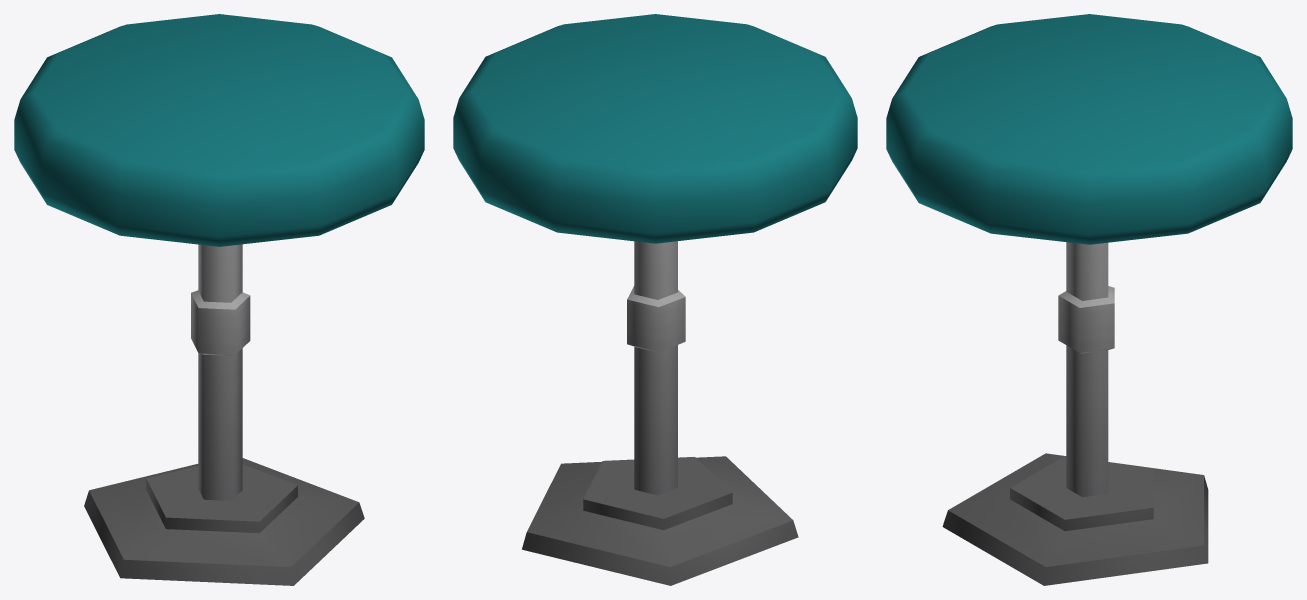
File: Chair_3_F.fbx
The picture shows the model from 3 angles, left to right: view 1: azimuth 30°, elevation 25°; view 2: azimuth 150°, elevation 25°; view 3: azimuth 270°, elevation 25°; orthographic projection.
Visible parts, largest first — view 1: Chair_3_F; view 2: Chair_3_F; view 3: Chair_3_F.
Boxes of the visible parts, left/top/right/bottom form: Chair_3_F: left=14, top=14, right=424, bottom=585; Chair_3_F: left=453, top=14, right=857, bottom=585; Chair_3_F: left=886, top=14, right=1292, bottom=585.
Bounding box in the file's own units: 50.02 × 59.1 × 50.04.
